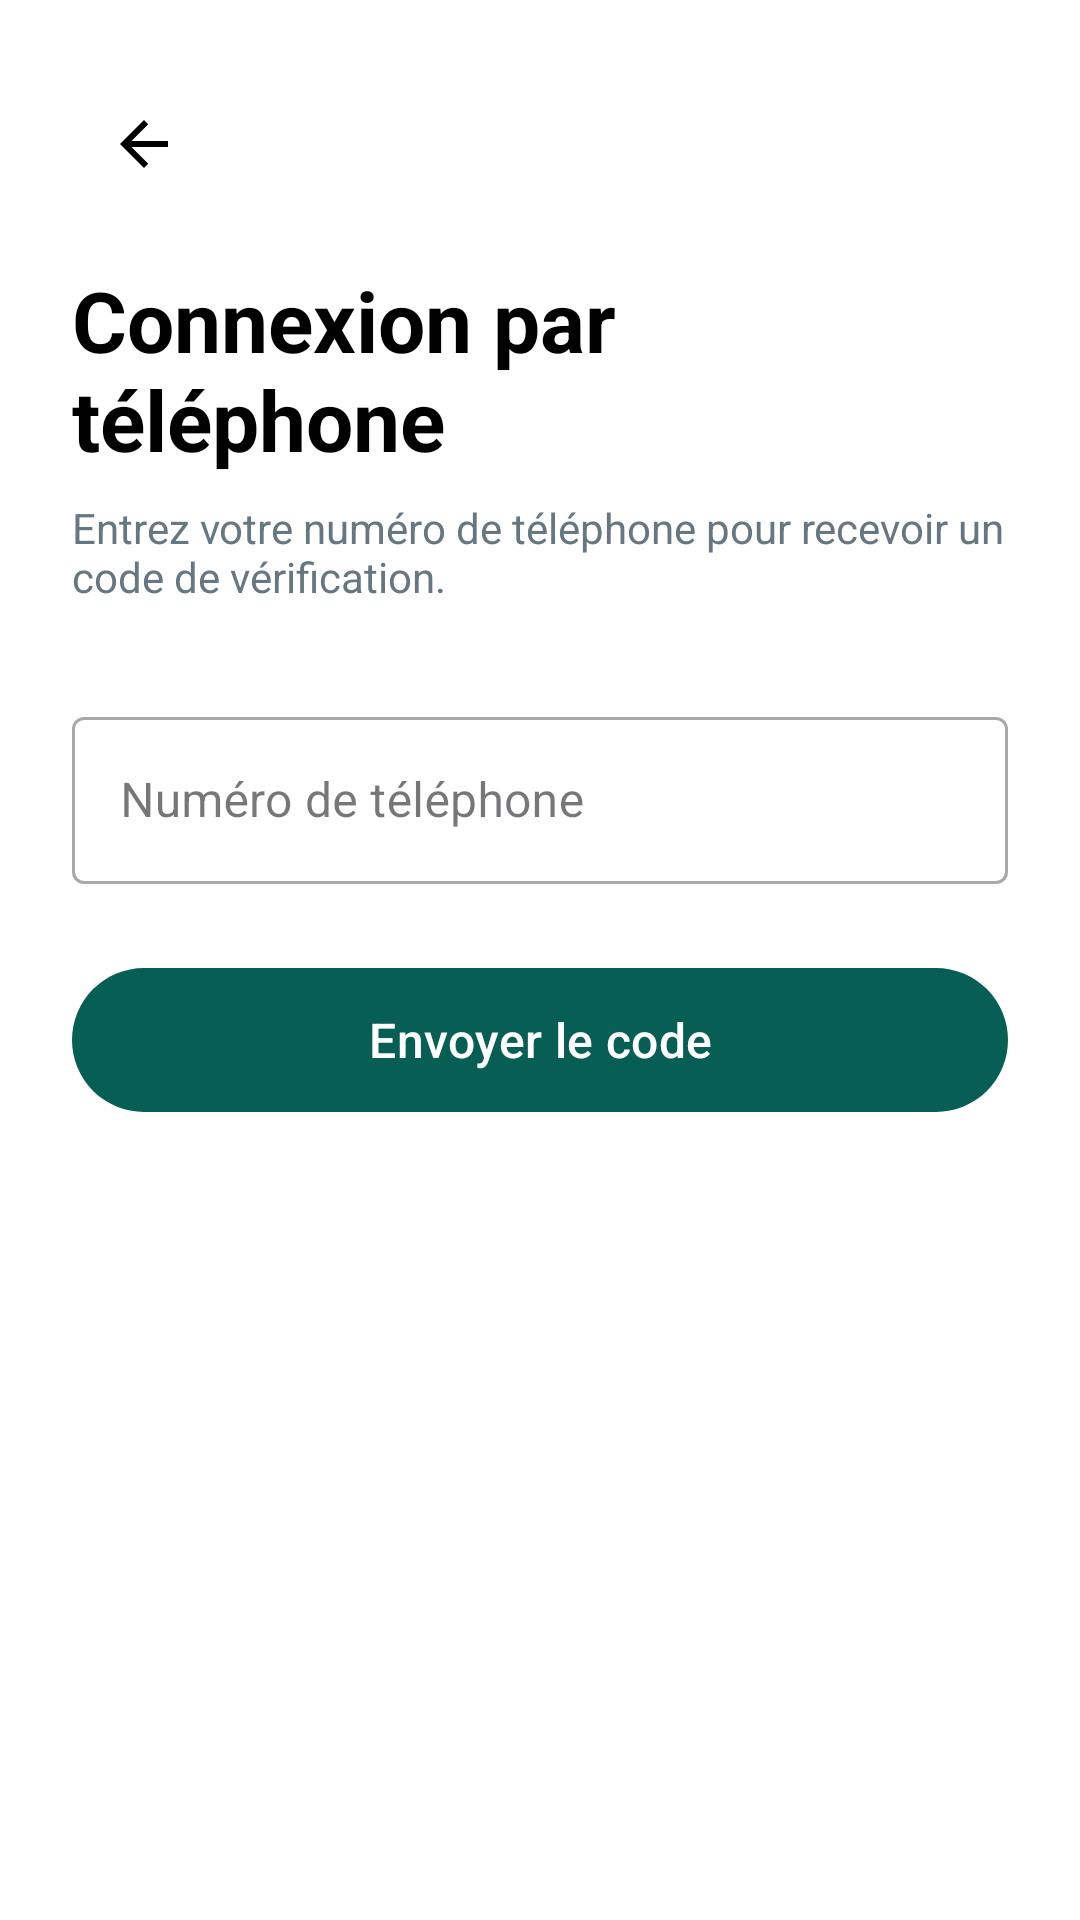

Icon click points for this 1080x1920 phone screenshot, format point (x, y):
Retour à la connexion: point (144, 144)
